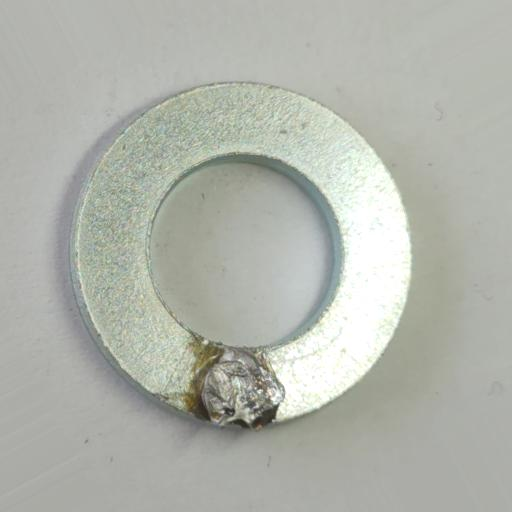excess_material: (198, 345, 285, 430)
